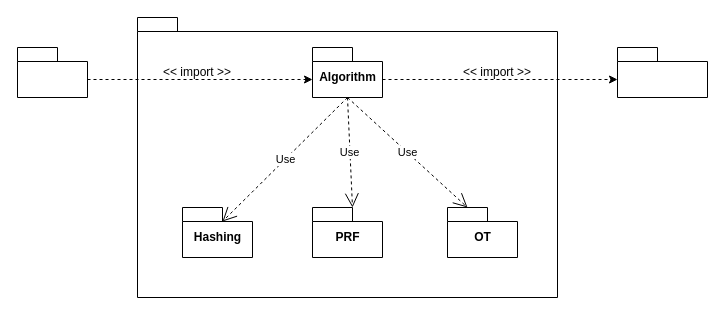
This 725x315 diagram has some shape labels left out. Each missing label, with the centre of its shape:
Preprocessing: (x=662, y=72)
UI: (x=52, y=72)
